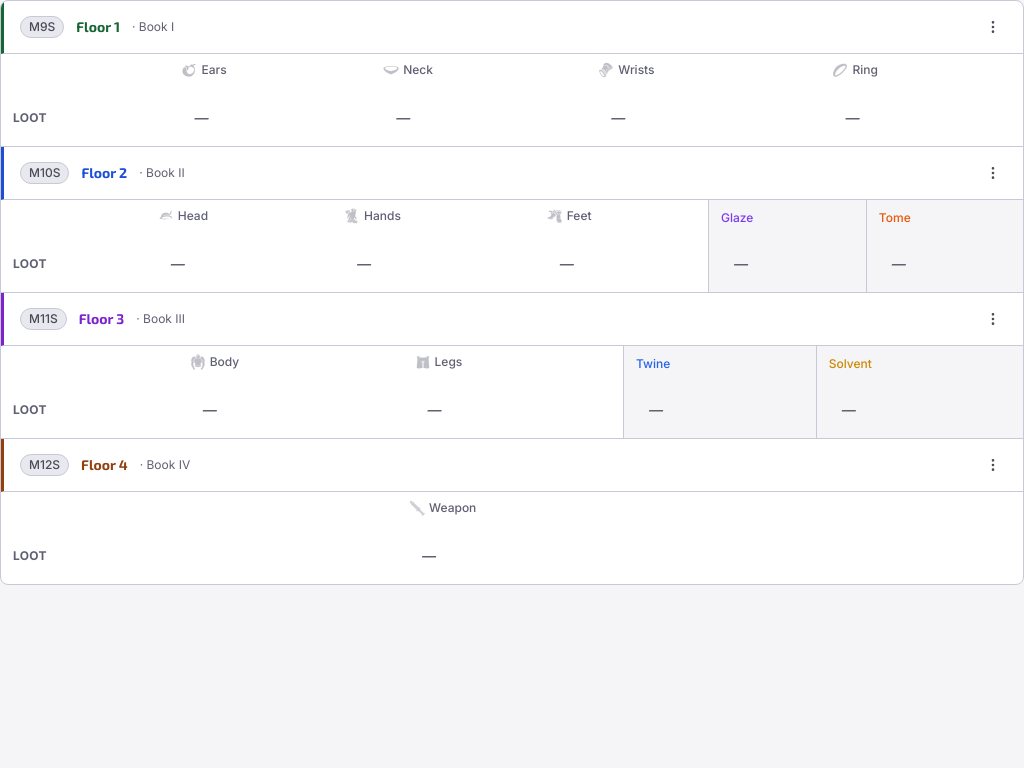
Scenario: D7: floor-header kebab gains the floor's resets, two triggers › kebab click opens a menu holding exactly Log floor / Reset {floorName} loot / Reset {floorName} books
Click the button named "M10S actions".
click(993, 173)  # box [979, 159, 1007, 187]
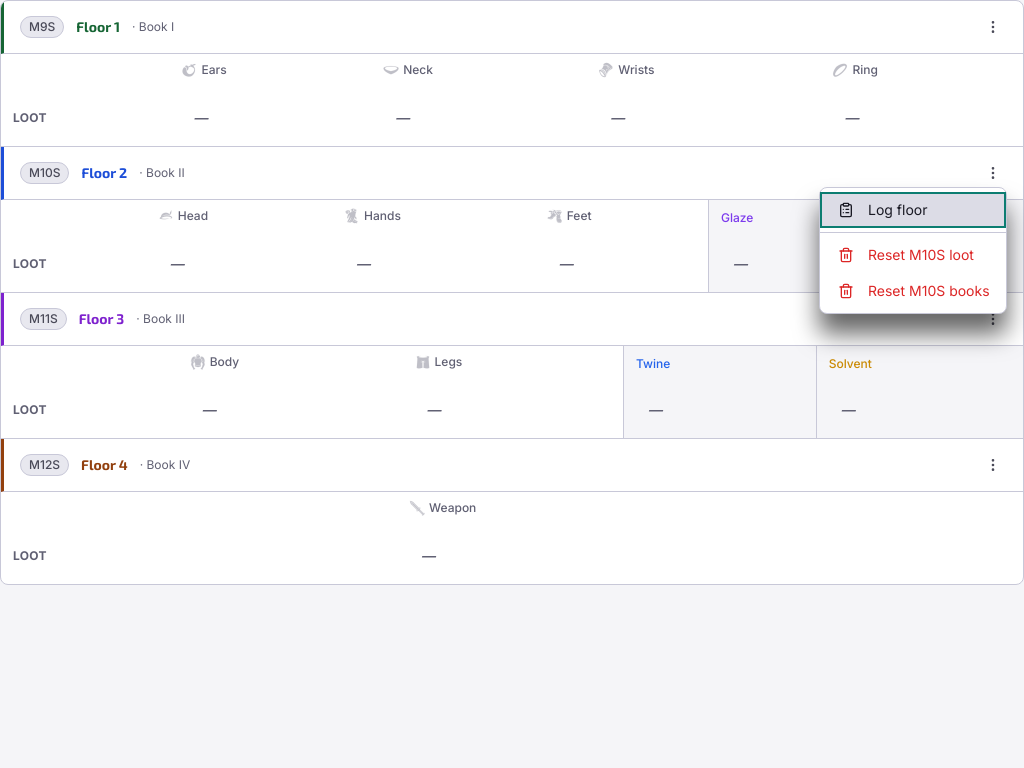
Check: the menu items read "Log floor", "Reset M10S loot", "Reset M10S books", in this order, box [820, 192, 1006, 228]; [820, 237, 1006, 273]; [820, 273, 1006, 309]
